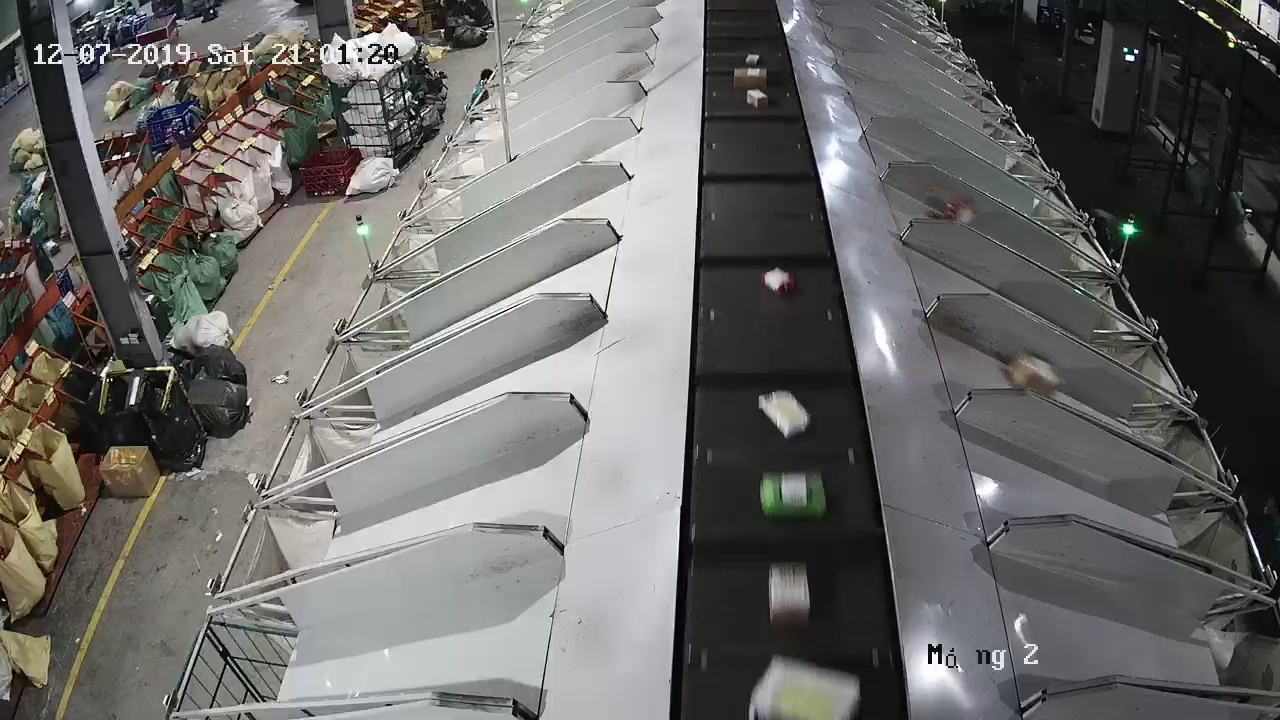parcel: (1005, 351, 1066, 398), (942, 199, 976, 224)
